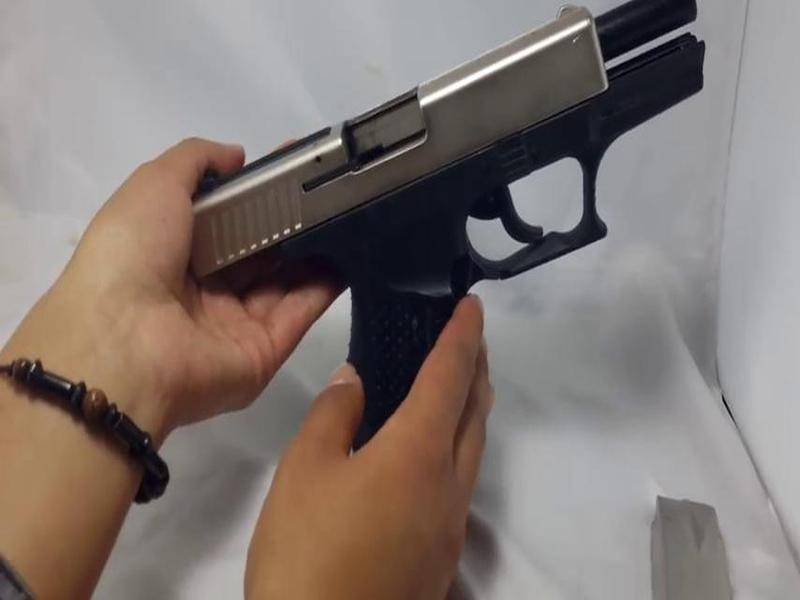Pistola: (198, 1, 721, 506)
